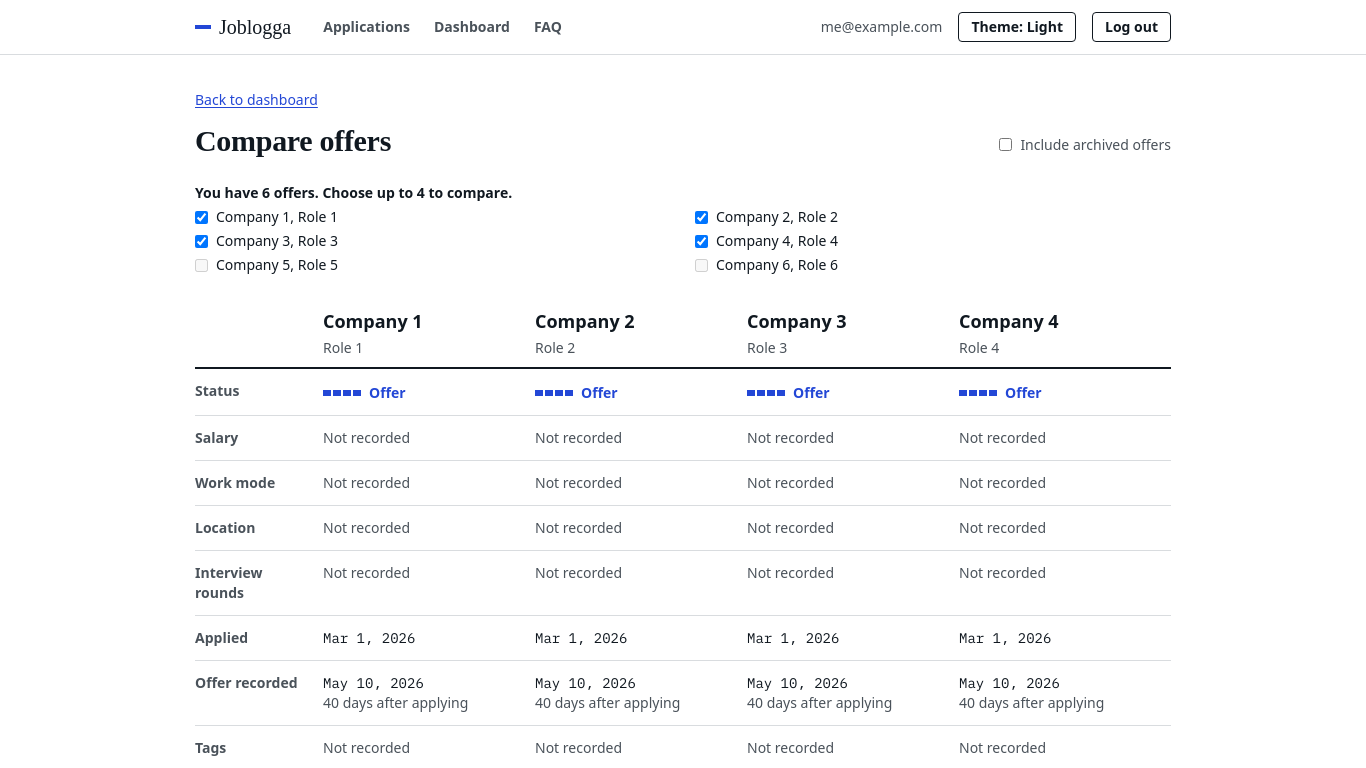
Scenario: how many are compared › swapping one offer for another works: untick one, tick another
Click the checkbox labelled "Company 2, Role 2": (702, 217) [695,210,708,224]
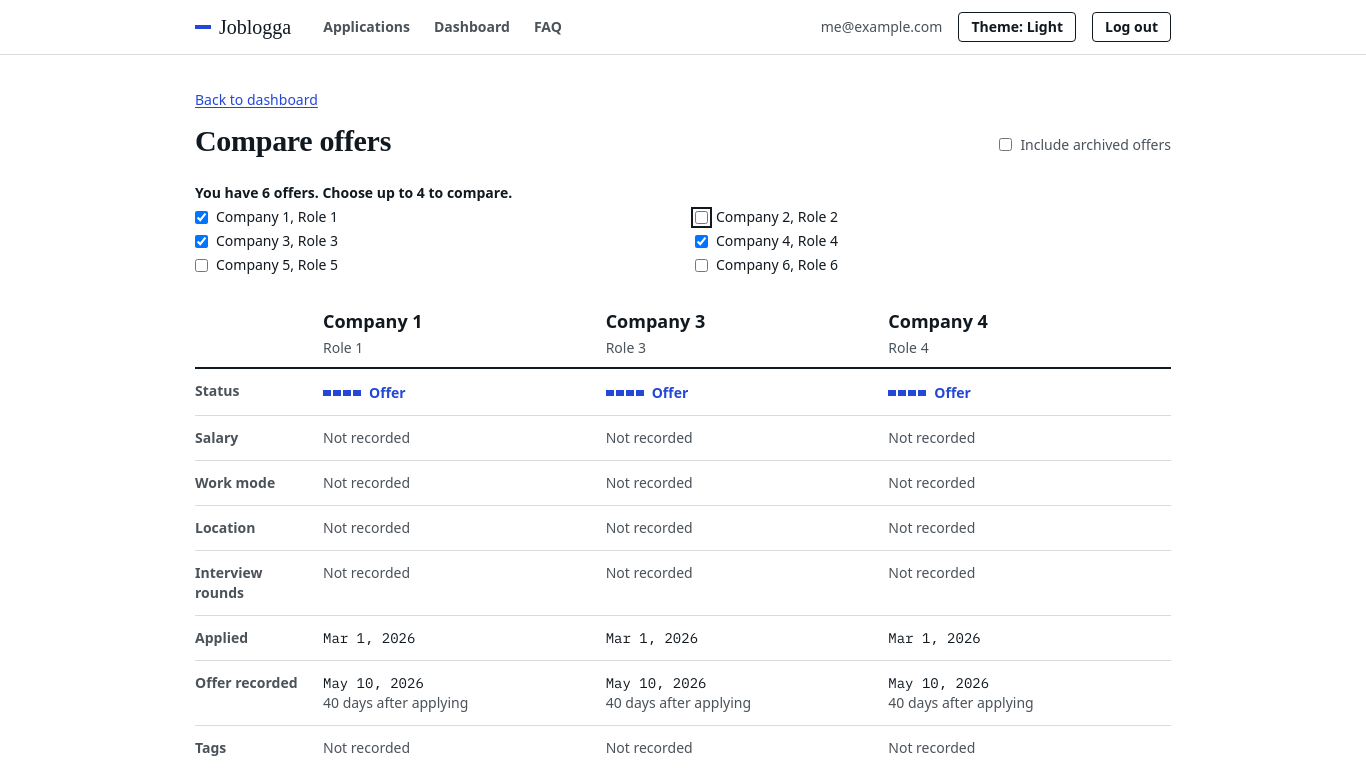
Expected: the checkbox labelled "Company 5, Role 5" is enabled
Click the checkbox labelled "Company 5, Role 5": (202, 265) [195,258,208,272]
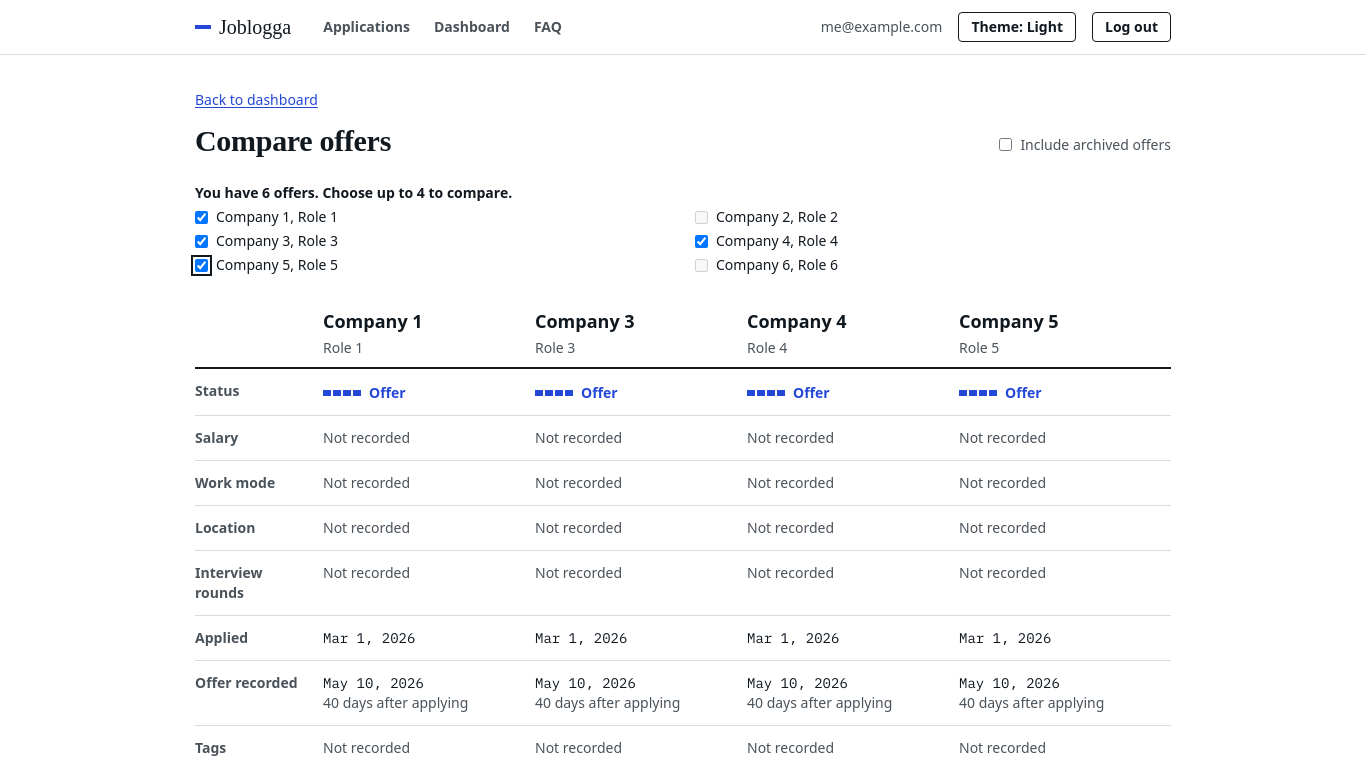
Expected: the column headings read "Company 1Role 1", "Company 3Role 3", "Company 4Role 4", "Company 5Role 5", in this order, [323,299,535,368]; [535,299,747,368]; [747,299,959,368]; [959,299,1171,368]
